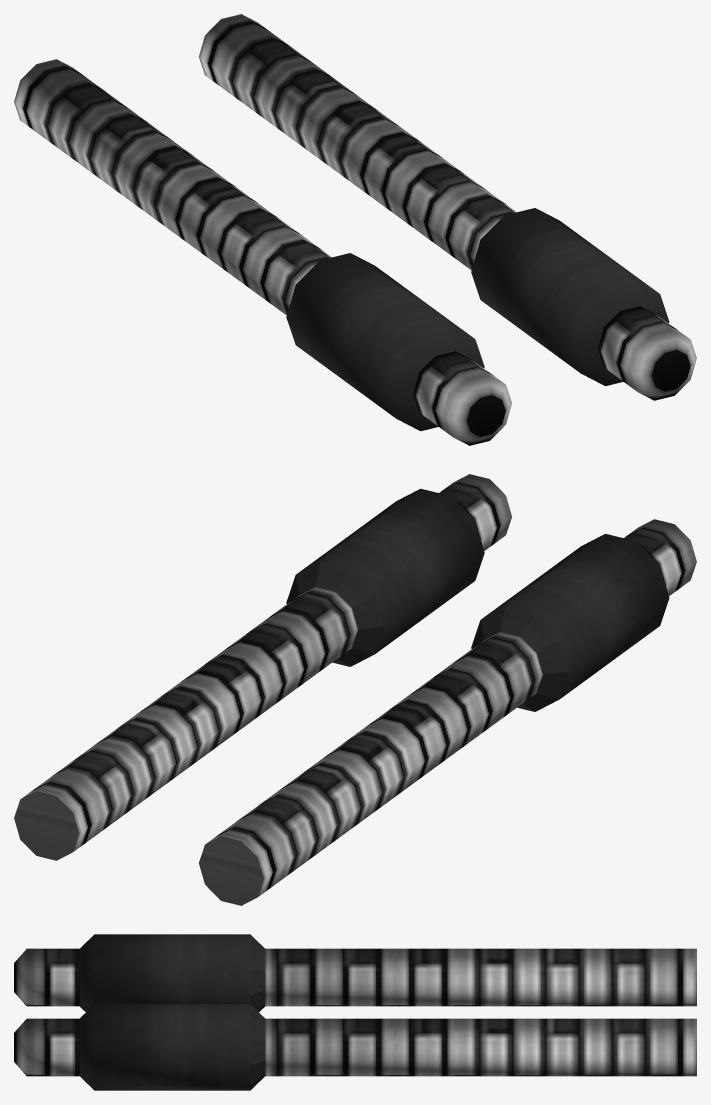
The model's file is LCATurretGuns.fbx.
3 renders of one model, top to bottom at view 1: azimuth 30°, elevation 25°; view 2: azimuth 150°, elevation 25°; view 3: azimuth 270°, elevation 25°, orthographic. The views are drawn at different scales.
Visible parts, largest first — view 1: LCATurretGuns; view 2: LCATurretGuns; view 3: LCATurretGuns.
Boxes of the visible parts, x1=… form: LCATurretGuns: x1=14, y1=14, x2=696, y2=445; LCATurretGuns: x1=14, y1=474, x2=696, y2=905; LCATurretGuns: x1=14, y1=934, x2=696, y2=1090.
Bounding box in the file's own units: 52.1 × 17.16 × 141.
